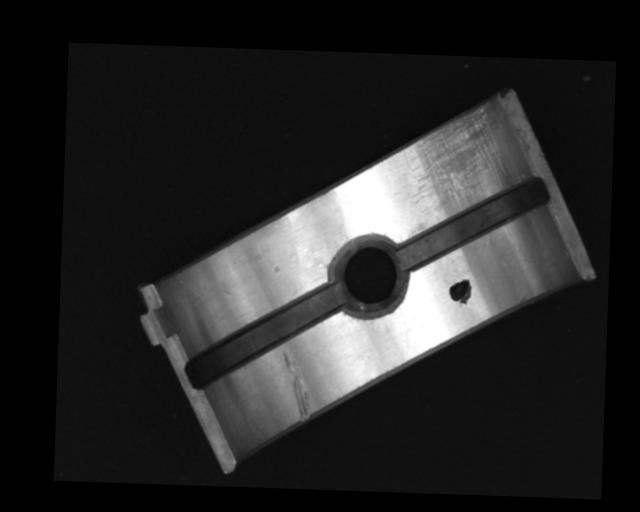blot: (447, 277, 473, 305)
bruise: (273, 265, 281, 277)
gap: (186, 277, 343, 391), (395, 172, 550, 274)
hole: (330, 233, 407, 317)
nick: (280, 351, 313, 423)
scratch: (402, 103, 511, 217)
